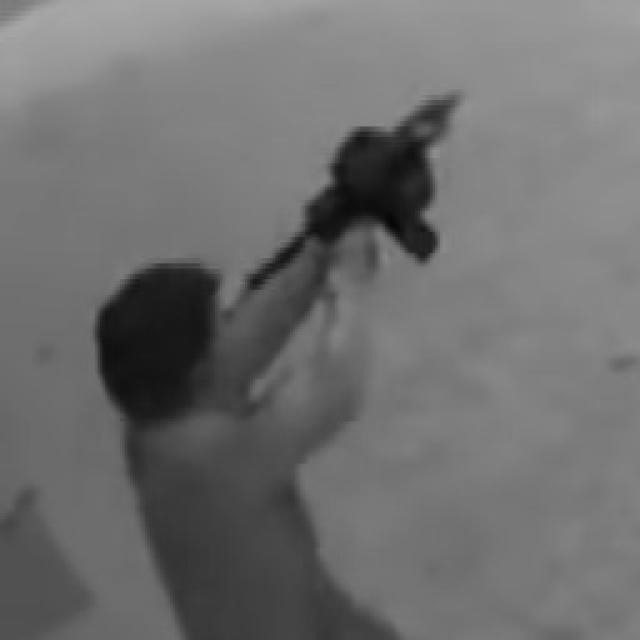weapon: (219, 76, 464, 341)
